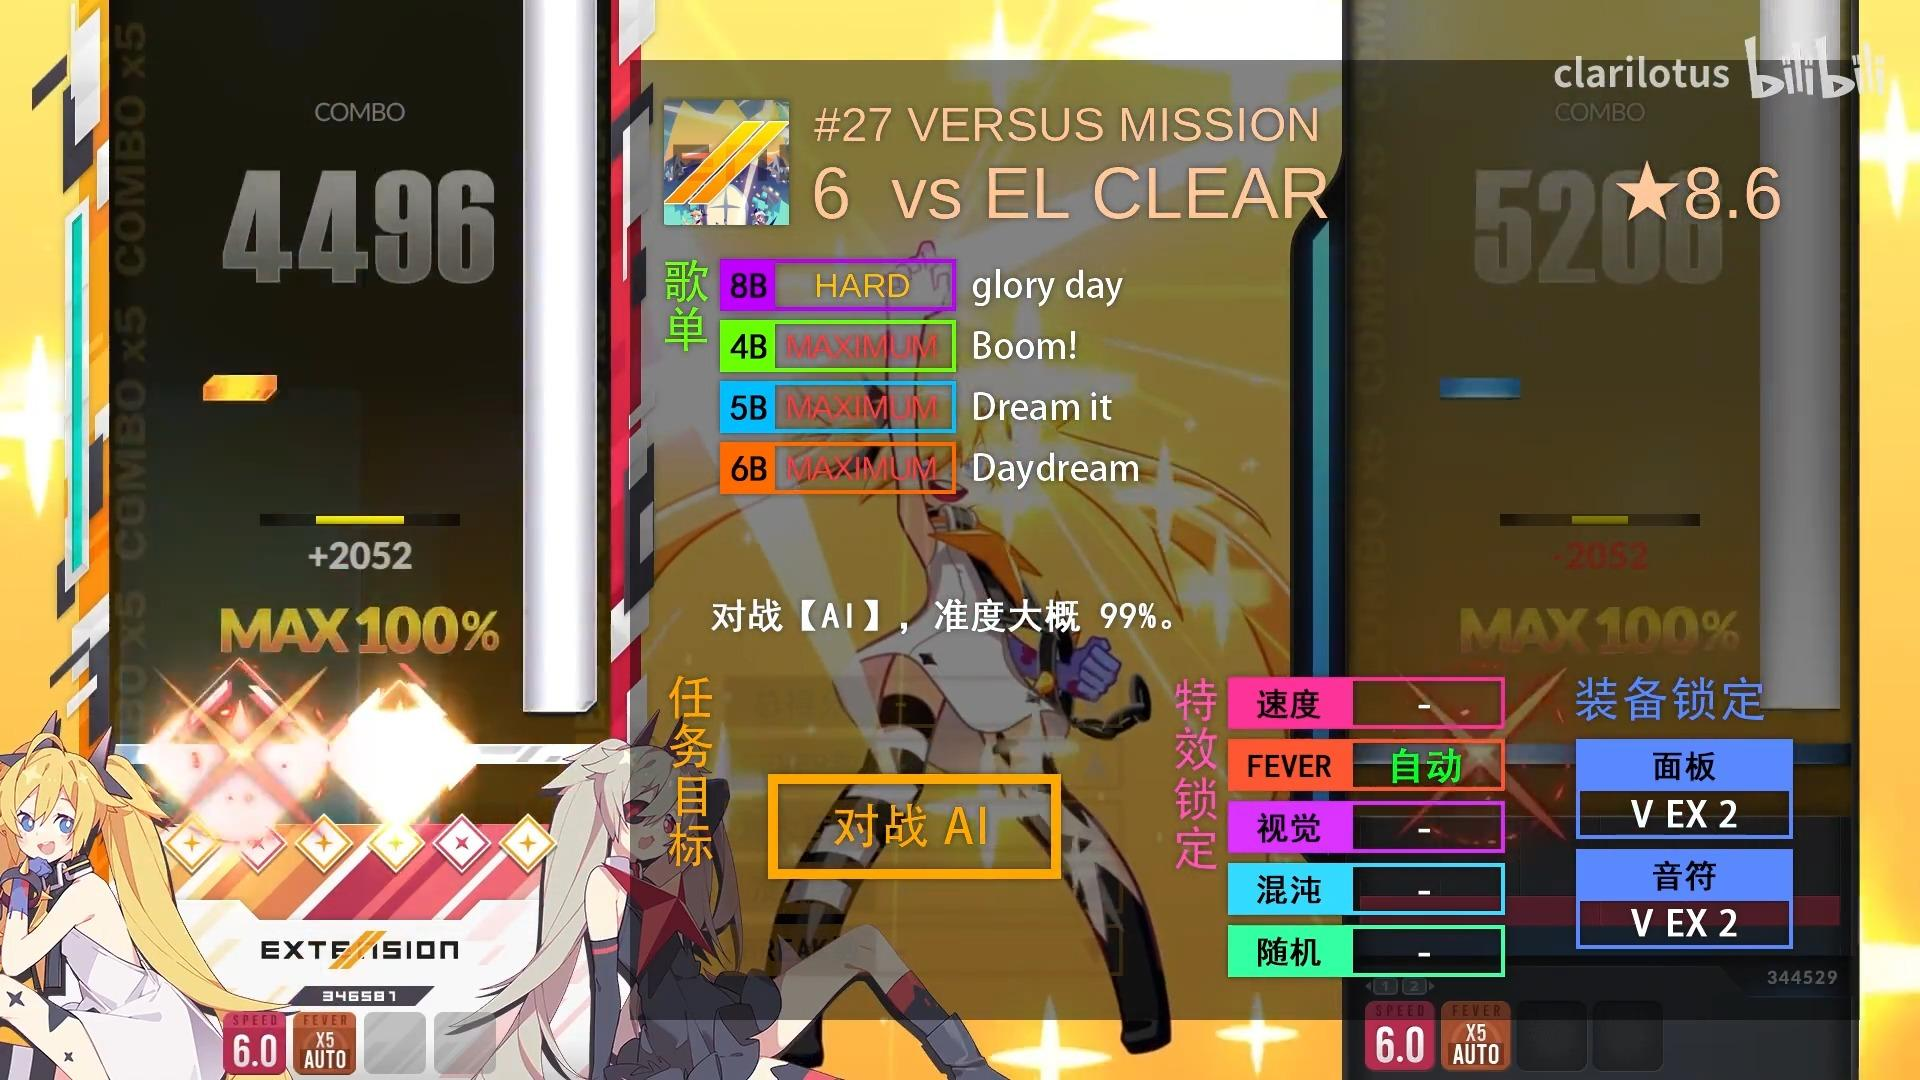hold-start: (524, 684, 597, 712)
note: (203, 375, 278, 404)
